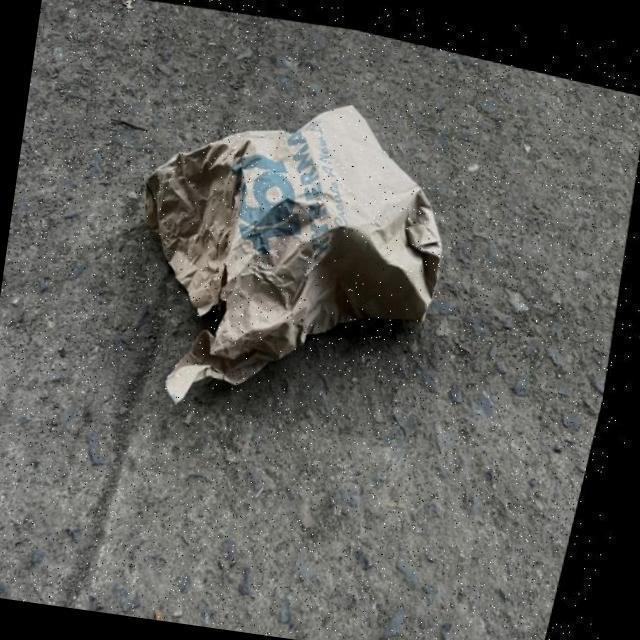Paper_Bag: (94, 49, 495, 458)
